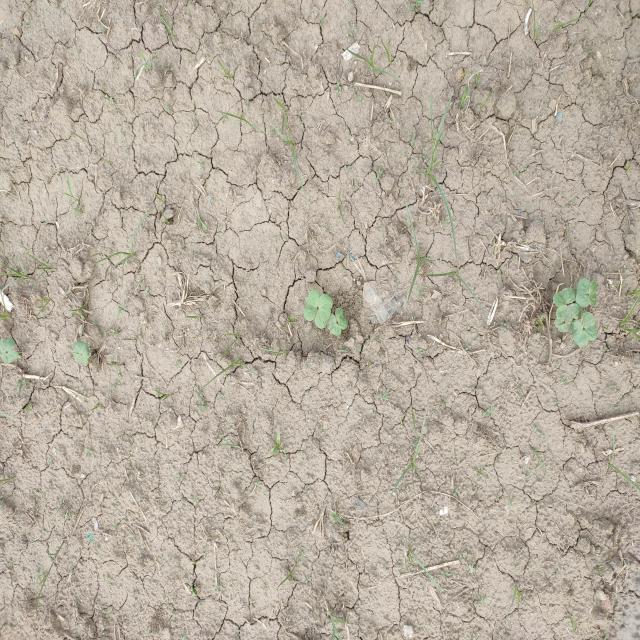seedling_s2: (315, 294, 333, 329), (304, 289, 320, 321), (572, 319, 589, 347), (556, 303, 581, 322), (553, 287, 576, 307), (582, 312, 597, 342), (576, 278, 590, 310), (327, 312, 341, 336), (555, 318, 575, 333), (335, 307, 348, 330), (73, 342, 90, 358), (588, 280, 597, 307), (0, 338, 15, 354), (2, 350, 19, 364), (73, 353, 88, 365)
